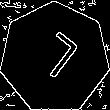L_SW: (27, 28, 82, 87)
